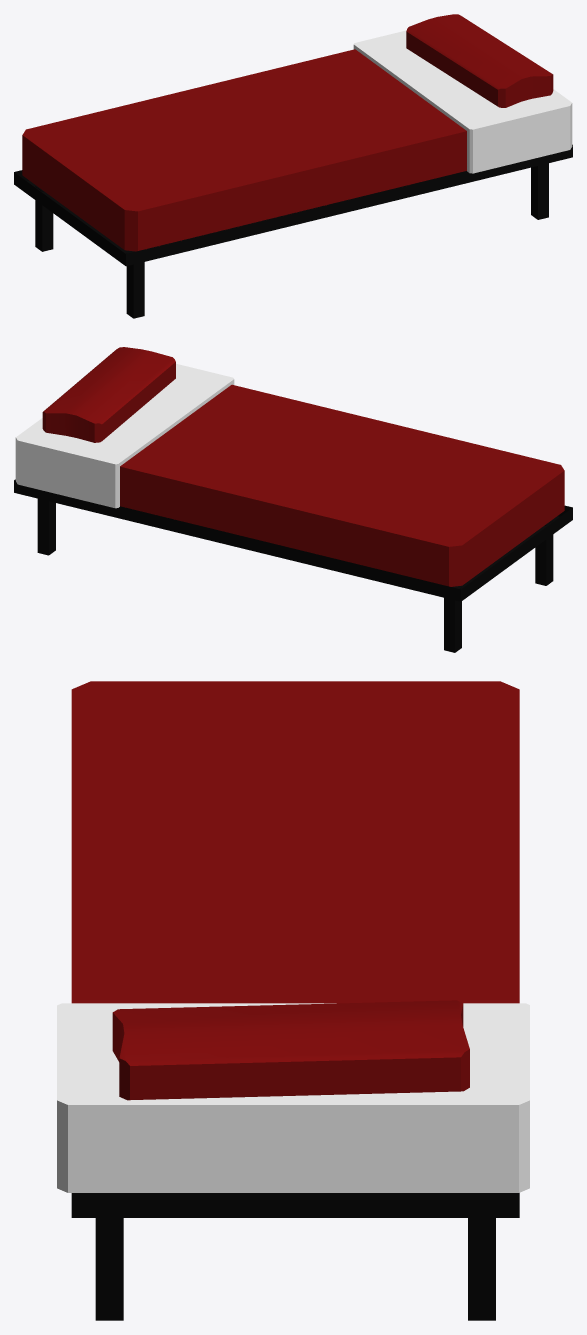
Rendered from Cama.FBX.
3 renders of one model, top to bottom at view 1: azimuth 30°, elevation 25°; view 2: azimuth 150°, elevation 25°; view 3: azimuth 270°, elevation 25°, orthographic. The views are drawn at different scales.
Parts seen in each view (by area): view 1: Cama; view 2: Cama; view 3: Cama.
Part boxes in pixels (x1,y1,x2,y2): Cama: [14, 14, 572, 318]; Cama: [14, 347, 572, 652]; Cama: [57, 681, 529, 1320].
Bounding box in the file's own units: 7.23 × 2.14 × 3.32.
